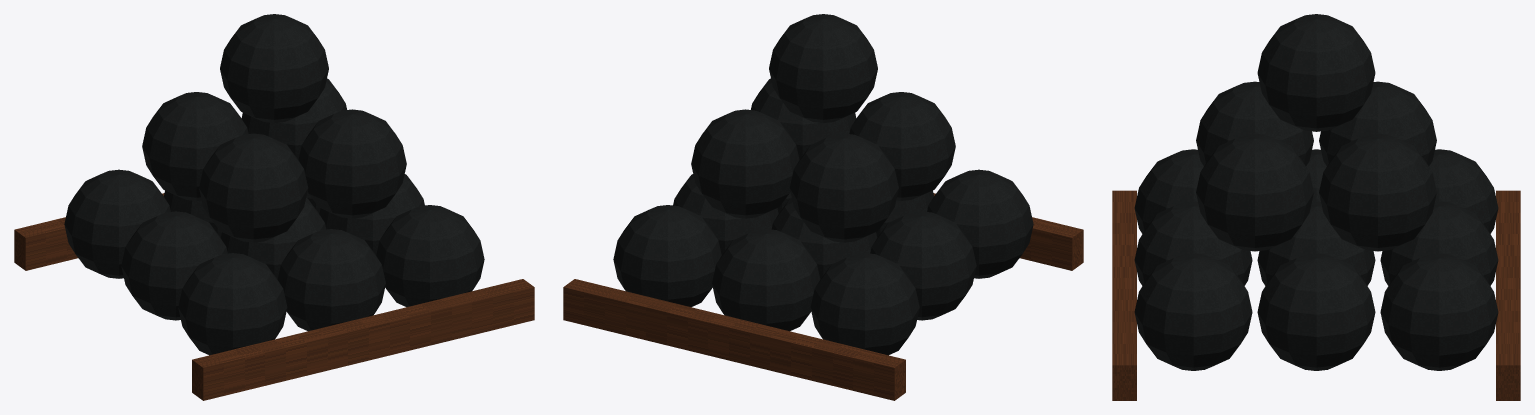
Rendered from SM_cannonball_stack.gltf.
The picture shows the model from 3 angles, left to right: view 1: azimuth 30°, elevation 25°; view 2: azimuth 150°, elevation 25°; view 3: azimuth 270°, elevation 25°; orthographic projection. The views are drawn at different scales.
Visible parts, largest first — view 1: root; view 2: root; view 3: root.
Part boxes in pixels (<box>): root: <box>14,14,534,400</box>; root: <box>563,14,1083,400</box>; root: <box>1112,14,1520,400</box>.
Size of the model in its own units: 0.84 by 0.66 by 0.83.
Materials: 2 (2 with a texture image).
